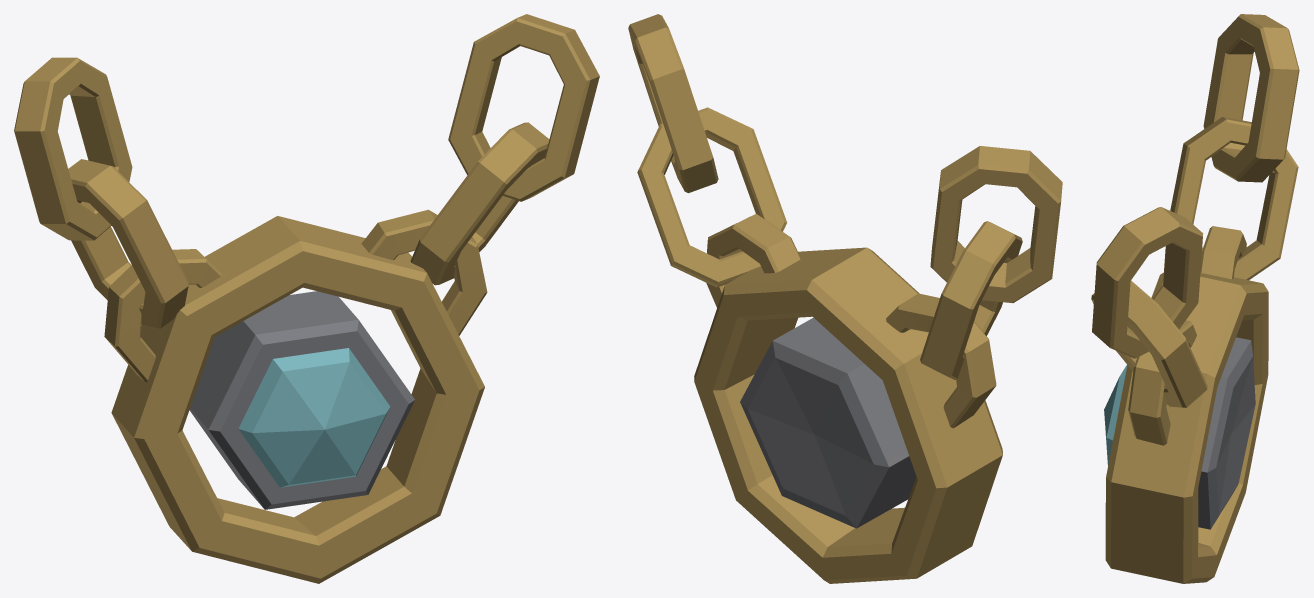
The model's file is genericAmulet.fbx.
3 renders of one model, left to right at view 1: azimuth 30°, elevation 25°; view 2: azimuth 150°, elevation 25°; view 3: azimuth 270°, elevation 25°, orthographic. The views are drawn at different scales.
Visible parts, largest first — view 1: genericAmulet; view 2: genericAmulet; view 3: genericAmulet.
Boxes of the visible parts, left/top/right/bottom form: genericAmulet: left=14, top=14, right=599, bottom=583; genericAmulet: left=628, top=14, right=1062, bottom=583; genericAmulet: left=1091, top=14, right=1299, bottom=583.
Size of the model in its own units: 1.96 by 1.91 by 0.7608.
